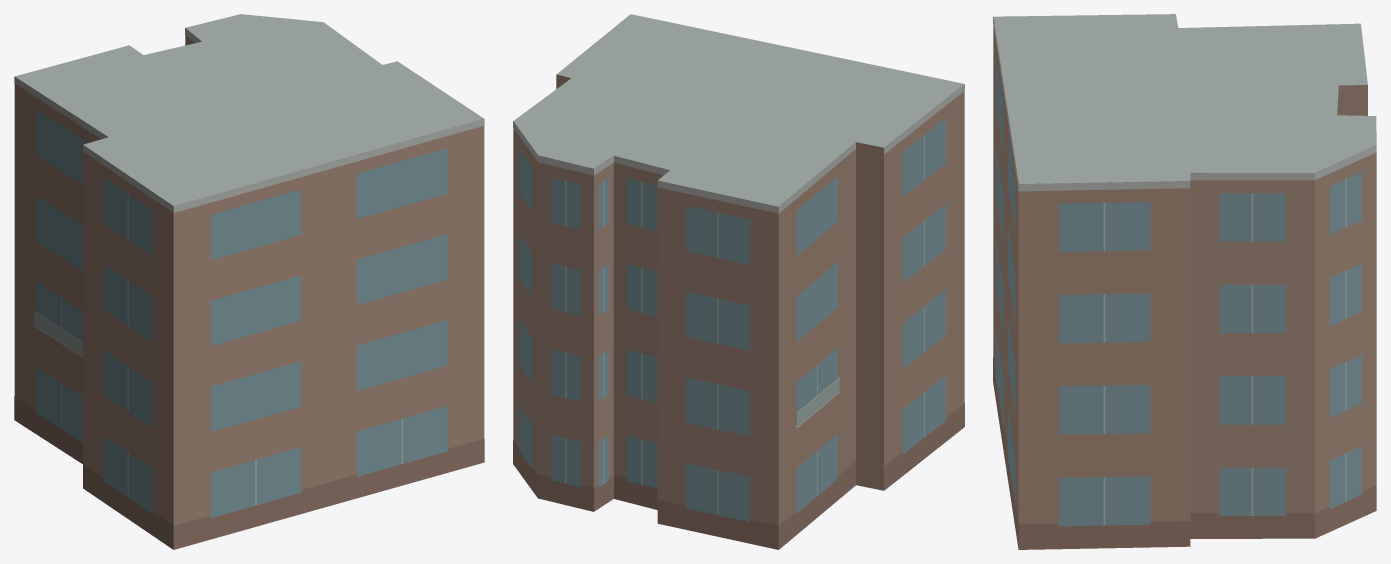
The model's file is survey-upis-32679214.glb.
3 views of the same model, side by side, from view 1: azimuth 30°, elevation 25°; view 2: azimuth 150°, elevation 25°; view 3: azimuth 270°, elevation 25° (orthographic). The views are drawn at different scales.
Parts seen in each view (by area): view 1: survey-upis-32679214.tmp; view 2: survey-upis-32679214.tmp; view 3: survey-upis-32679214.tmp.
Part boxes in pixels (bbox=[...]): survey-upis-32679214.tmp: bbox=[14, 14, 484, 549]; survey-upis-32679214.tmp: bbox=[513, 14, 964, 549]; survey-upis-32679214.tmp: bbox=[993, 14, 1376, 549].
Bounding box in the file's own units: 12.18 × 12.2 × 11.6.
